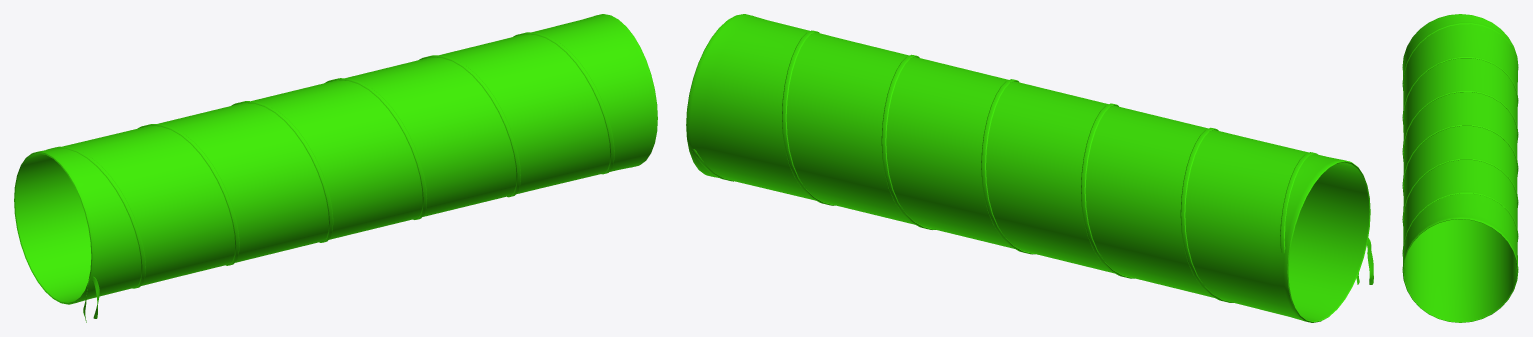
3 views of the same model, side by side, from view 1: azimuth 30°, elevation 25°; view 2: azimuth 150°, elevation 25°; view 3: azimuth 270°, elevation 25° (orthographic). The views are drawn at different scales.
Parts seen in each view (by area): view 1: Plane.005; view 2: Plane.005; view 3: Plane.005.
Boxes of the visible parts, x1,y1,x2,y2 form: Plane.005: (14, 14, 657, 322); Plane.005: (686, 14, 1373, 322); Plane.005: (1402, 14, 1518, 322).
Bounding box in the file's own units: 392 × 93.2 × 93.12.
